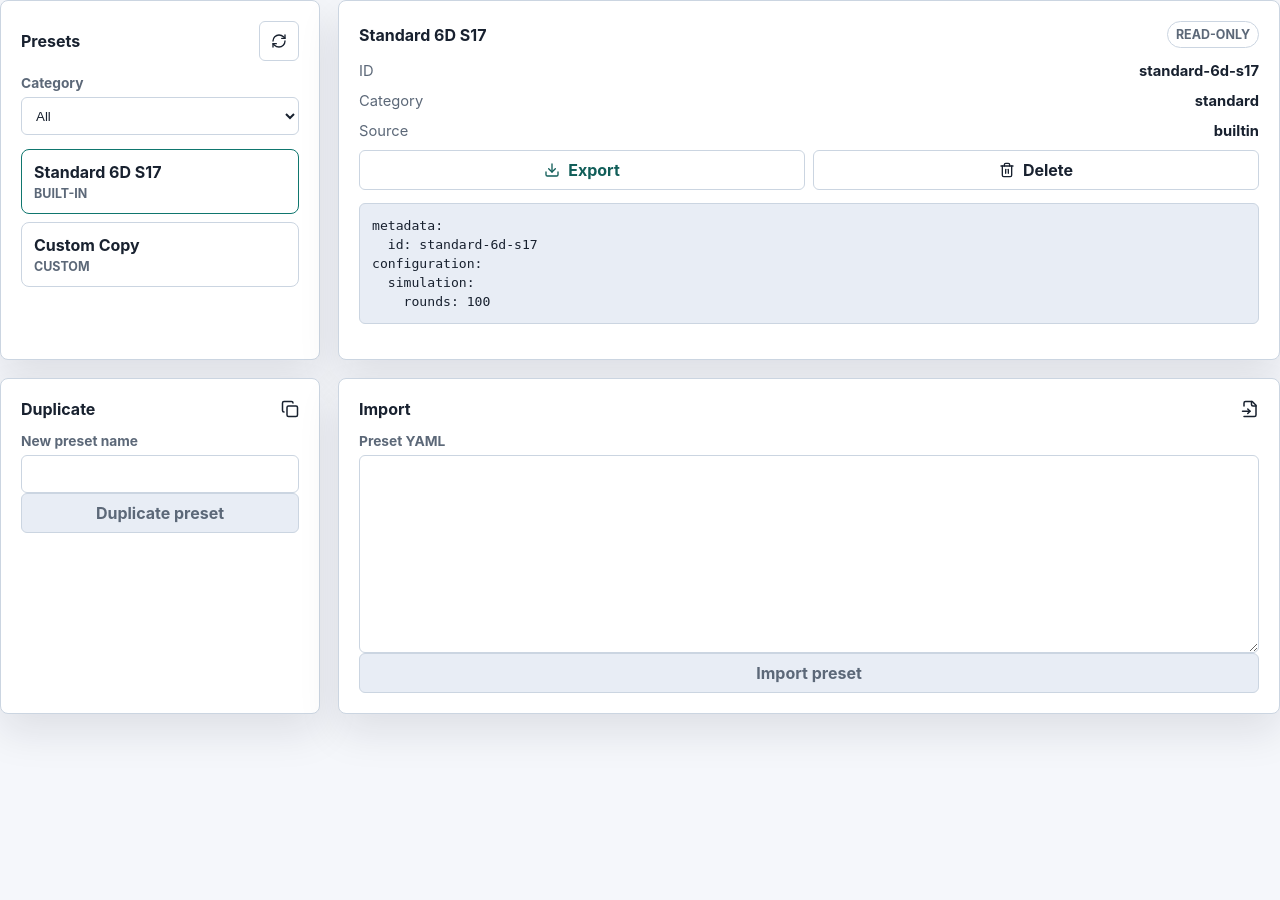
Test: PresetsPage › requires confirmation before deleting a custom preset
Expected: the text "Custom Copy" is shown, [34,235,140,255]
Click the button "Custom Copy custom" at (87, 245), box [21,222,299,287]
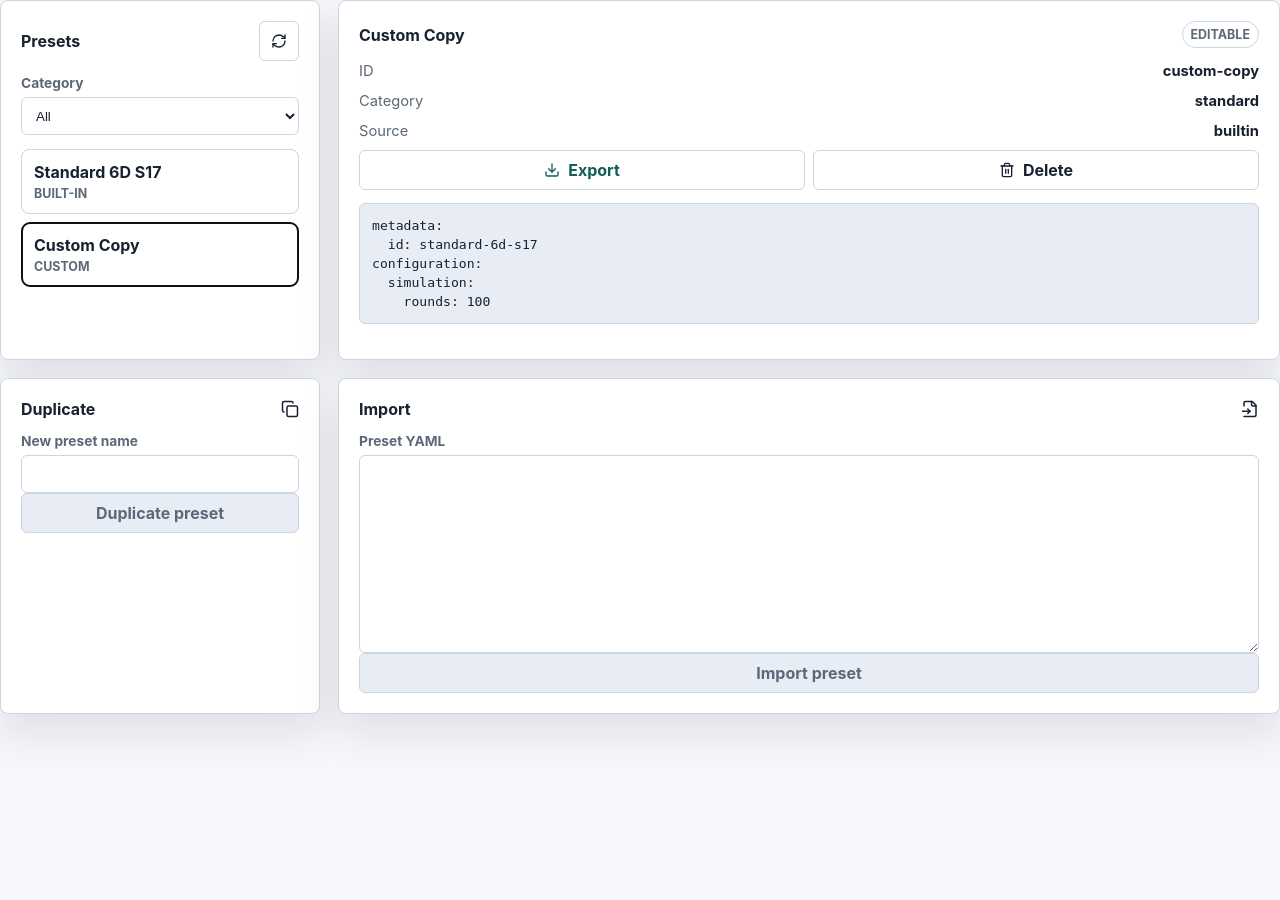
Click the button "Delete" at (1036, 170), box [813,150,1259,190]
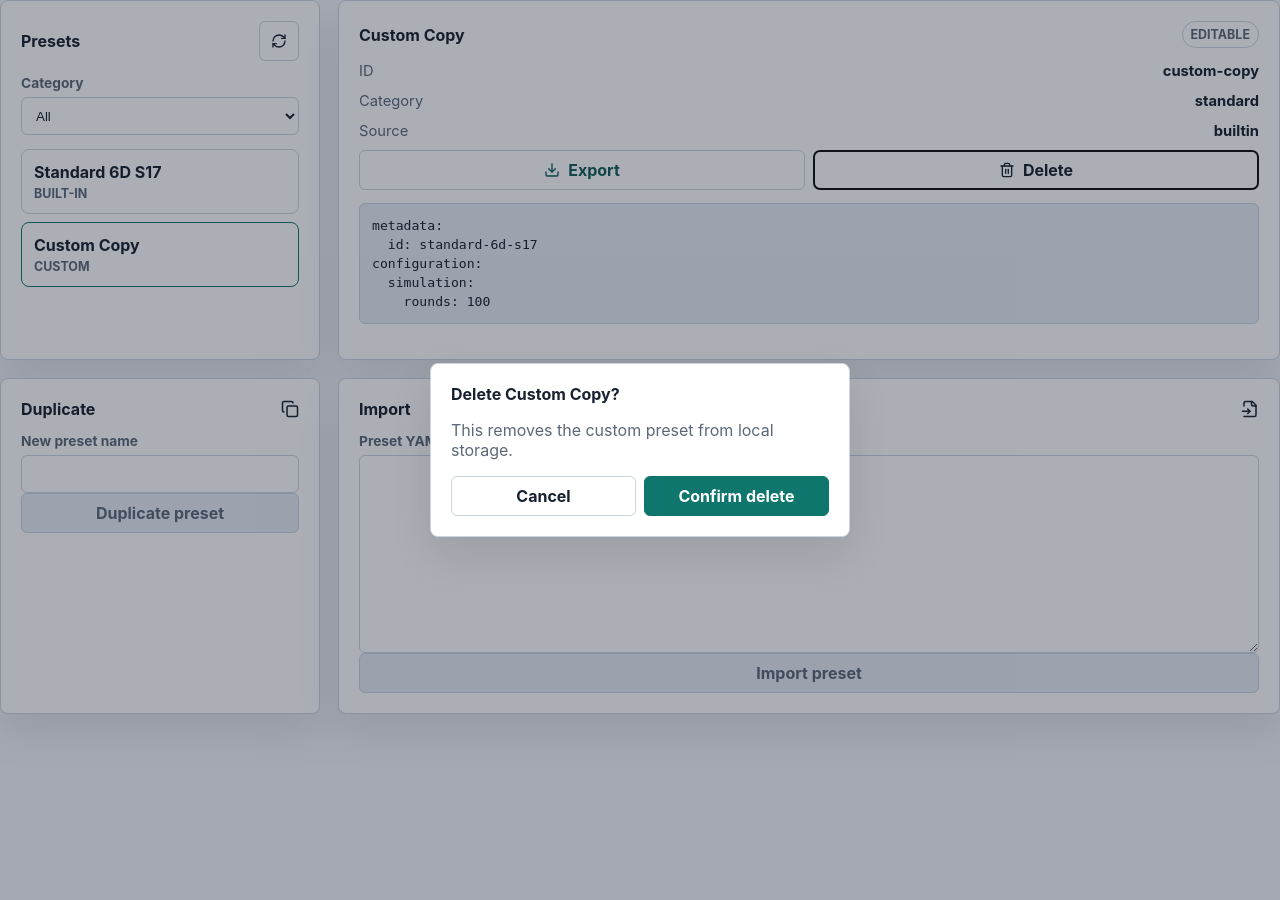
Expected: the dialog named "Delete preset confirmation" is shown
Click the button "Confirm delete" at (736, 496), box [644,476,829,516]
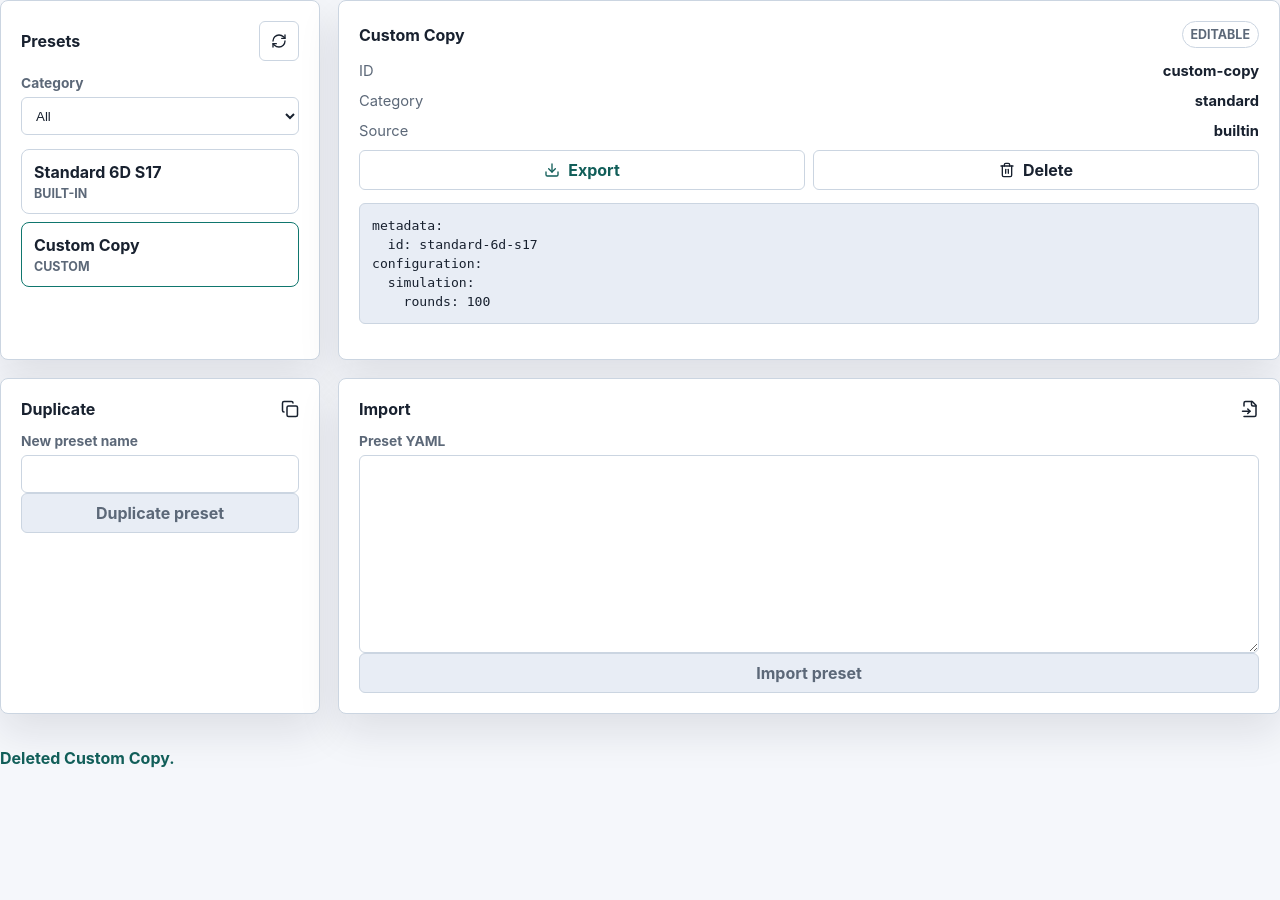
Expected: the text "Deleted Custom Copy." is shown, [0,748,174,768]
